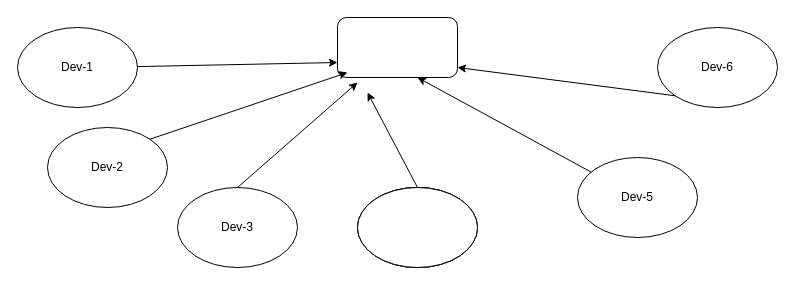
Image size: 795x285. Some labels were removed from this diagram. The box of each missing label's shape, as (x1, y1, x2, y2) in pixels:
Dev-4: (356, 186, 478, 268)
Manager: (336, 16, 458, 78)
